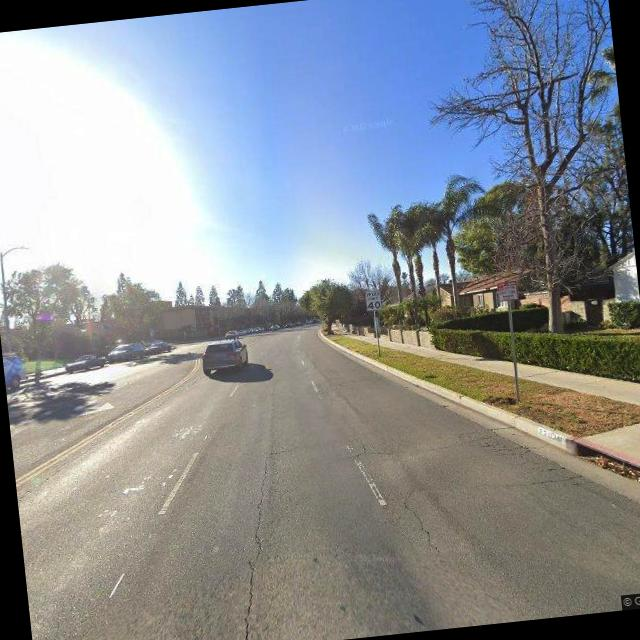crack: (450, 414, 542, 466)
pothole: (218, 454, 286, 640), (397, 488, 440, 558)
